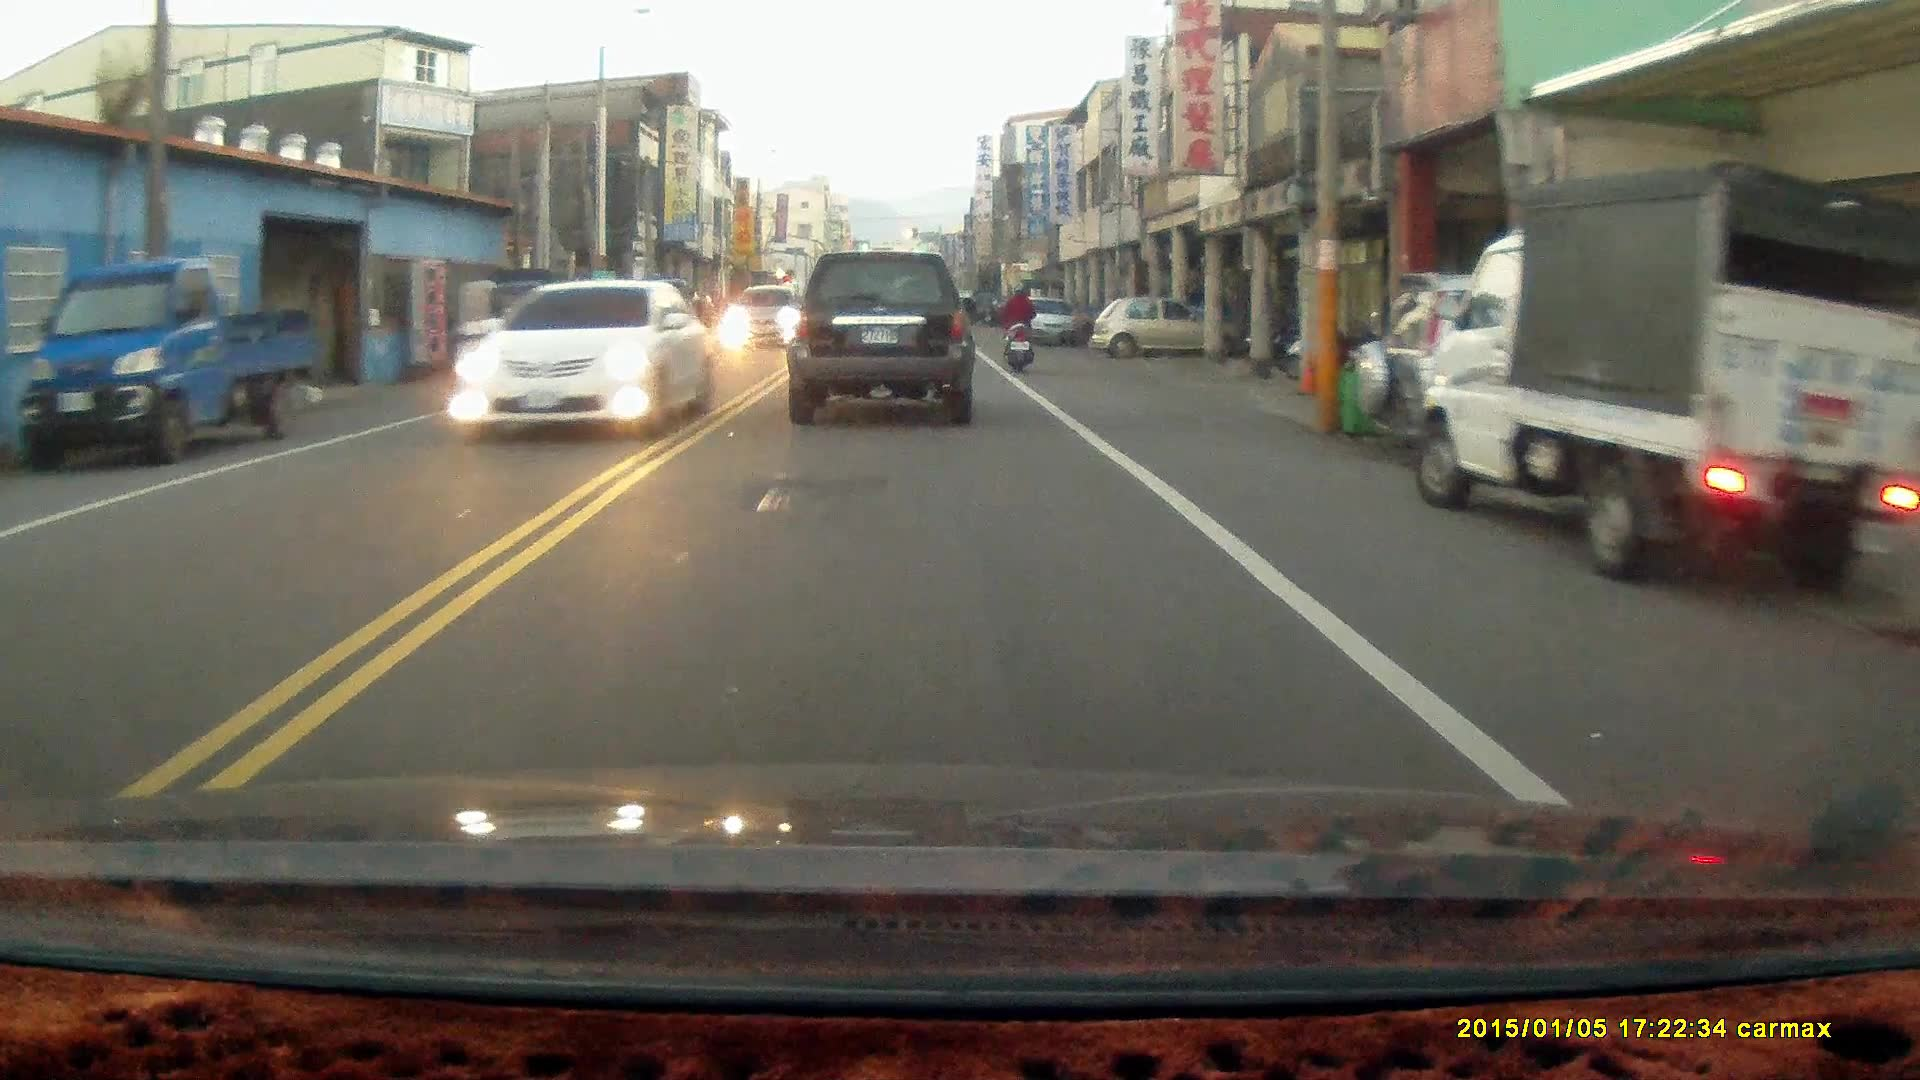rider: (442, 272, 502, 402), (998, 279, 1035, 374)
vehicle: (1410, 163, 1920, 601), (1360, 274, 1806, 462), (22, 262, 318, 469), (448, 275, 718, 441), (785, 248, 982, 427), (1091, 294, 1210, 357), (1018, 296, 1080, 348)
